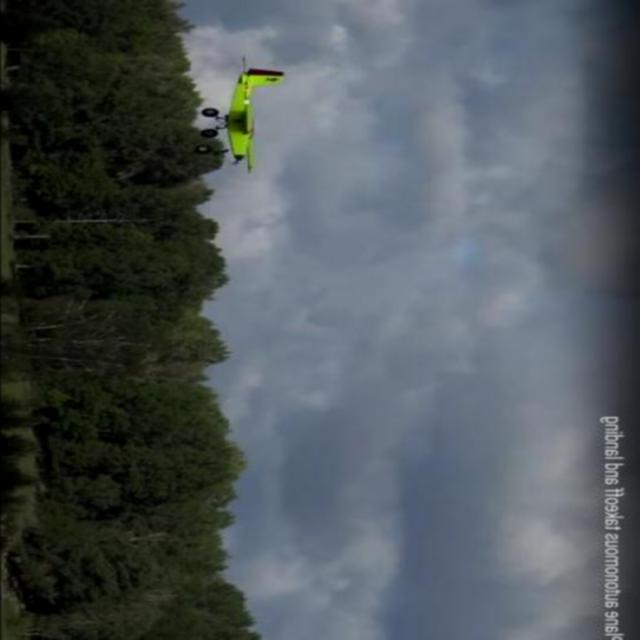plane: (195, 54, 286, 172)
